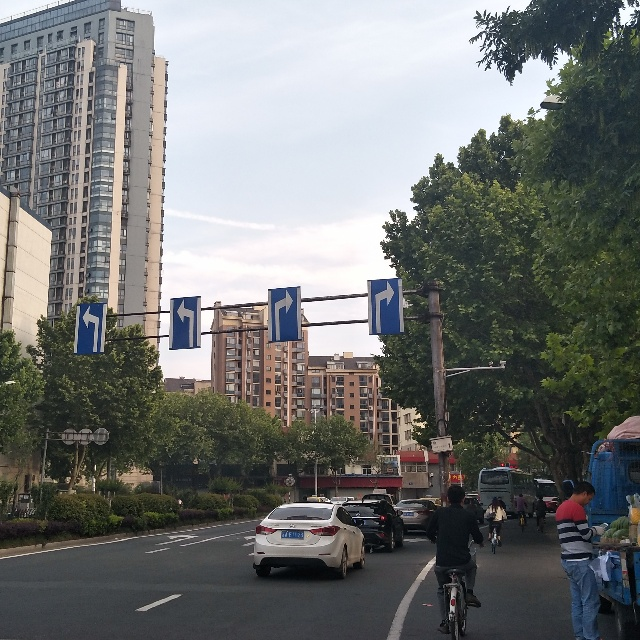left: (174, 292, 201, 348), (77, 304, 101, 354)
right: (266, 289, 298, 343), (371, 276, 402, 330)
